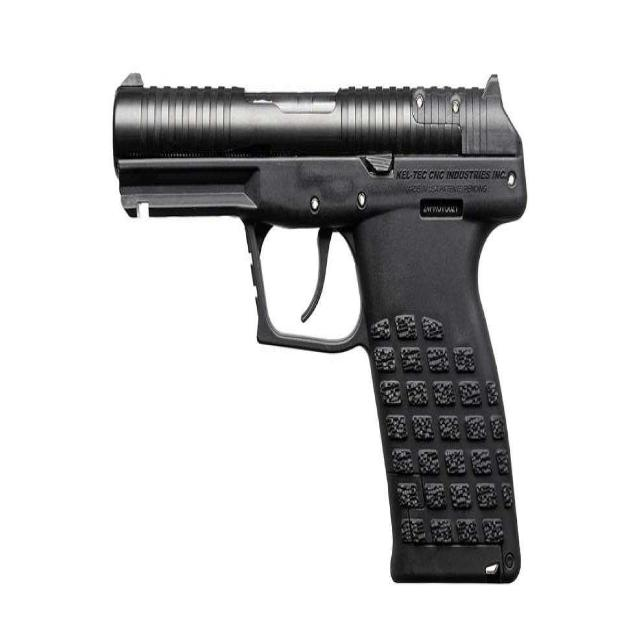gun: (111, 74, 529, 588)
